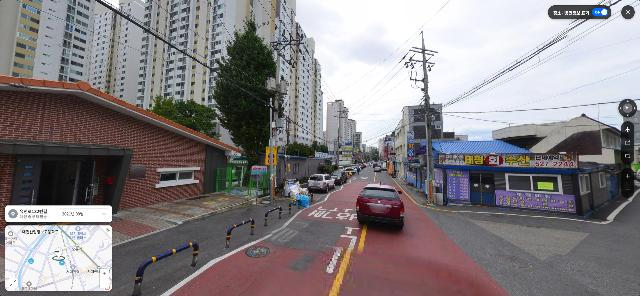other: (209, 5, 289, 188), (143, 93, 221, 139), (284, 140, 330, 159)
